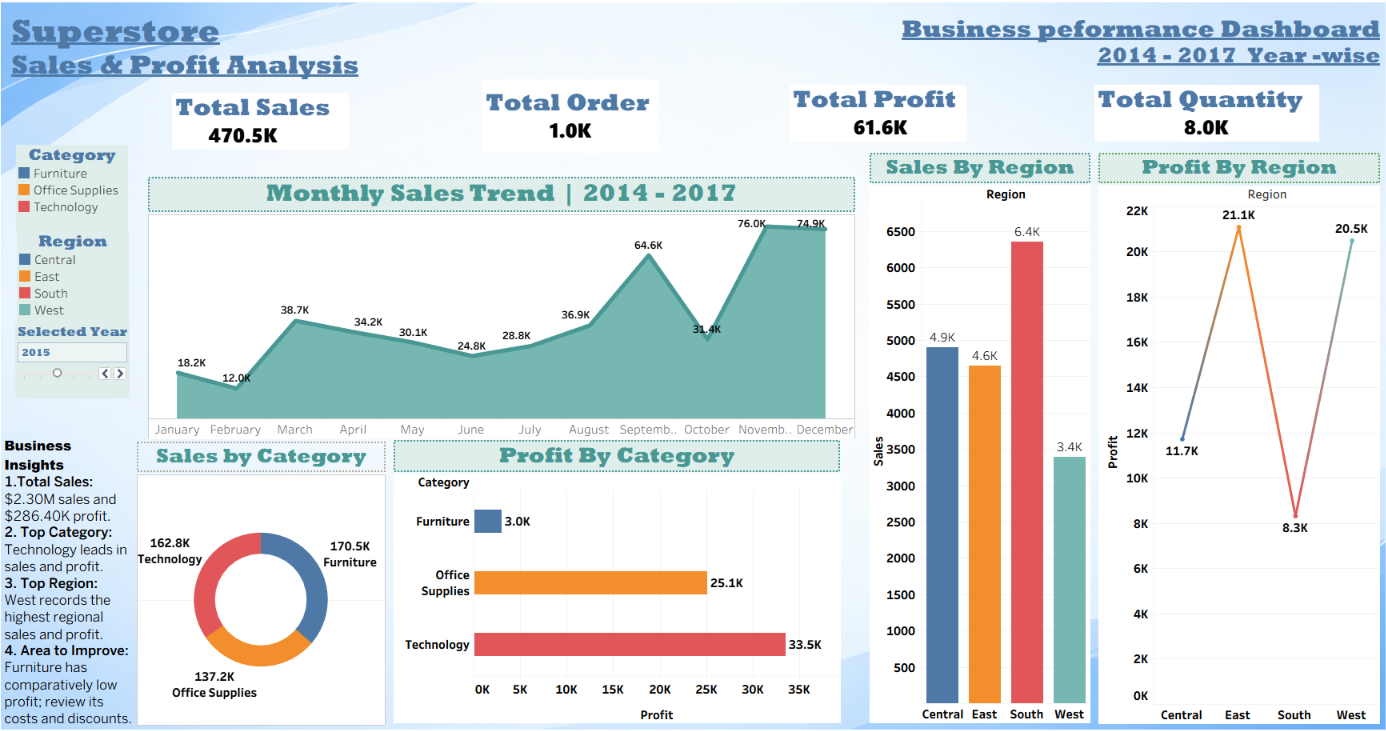

This screenshot's page, from the dashboard's own definition file:
{"tool":"tableau","page":{"name":"superstore dashboard","canvas":[1900,1000],"ordinal":0},"visuals":[{"type":"image","param":"C:/Users/ayush/Downloads/Minimal Blue Wave Gradient Background.png","box":[8,8,1884,984]},{"type":"text","box":[1092,11,648,99]},{"type":"text","box":[22,20,964,92]},{"type":"worksheet","title":"Total Order","mark":"Automatic","box":[614,93,234,113]},{"type":"worksheet","title":"Total Profit","mark":"Automatic","box":[998,100,233,103]},{"type":"worksheet","title":"Total Quantity","mark":"Automatic","box":[1379,100,328,87]},{"type":"worksheet","title":"Total  Sales.","mark":"Automatic","box":[226,110,246,99]},{"type":"legend","title":"profit by category ","param":"[federated.00o5qe705rl6i214j3ao40mc17w3].[none:Category:nk]","box":[31,190,140,108]},{"type":"worksheet","title":"Sales by region ","mark":"Bar","rows":["Sales"],"cols":["Region"],"box":[1098,200,276,713]},{"type":"worksheet","title":"Profit by region","mark":"Line","rows":["Profit"],"cols":["Region"],"box":[1384,200,352,714]},{"type":"worksheet","title":"Monthly Sale Trends","mark":"Area","rows":["Sales","Sales"],"cols":["Order Date"],"box":[196,230,884,328]},{"type":"legend","title":"Sales by region ","param":"[federated.00o5qe705rl6i214j3ao40mc17w3].[none:Region:nk]","box":[32,298,140,120]},{"type":"filter","title":"Monthly Sale Trends","param":"[federated.00o5qe705rl6i214j3ao40mc17w3].[yr:Order Date:ok]","box":[30,413,143,94]},{"type":"text","box":[13,554,166,373]},{"type":"worksheet","title":"profit by category ","mark":"Automatic","rows":["Category"],"cols":["Profit"],"box":[503,559,578,359]},{"type":"worksheet","title":"Sales by Category","mark":"Pie","rows":["Calculation_0986870645739525","Calculation_0986870645665795"],"box":[182,561,311,355]}]}

Visuals, with their boxes in screenshot pixels (x1, y1, x2, y2), scaled from the page's 1900x1000 canvas onto the 1386x731 screenshot:
image: 6:6:1380:725
text: 797:8:1269:80
text: 16:15:719:82
"Total Order" worksheet: 448:68:619:151
"Total Profit" worksheet: 728:73:898:148
"Total Quantity" worksheet: 1006:73:1245:137
"Total  Sales." worksheet: 165:80:344:153
"profit by category " legend: 23:139:125:218
"Sales by region " worksheet (Bar marks): 801:146:1002:667
"Profit by region" worksheet (Line marks): 1010:146:1266:668
"Monthly Sale Trends" worksheet (Area marks): 143:168:788:408
"Sales by region " legend: 23:218:125:306
"Monthly Sale Trends" filter: 22:302:126:371
text: 9:405:131:678
"profit by category " worksheet: 367:409:789:671
"Sales by Category" worksheet (Pie marks): 133:410:360:670
